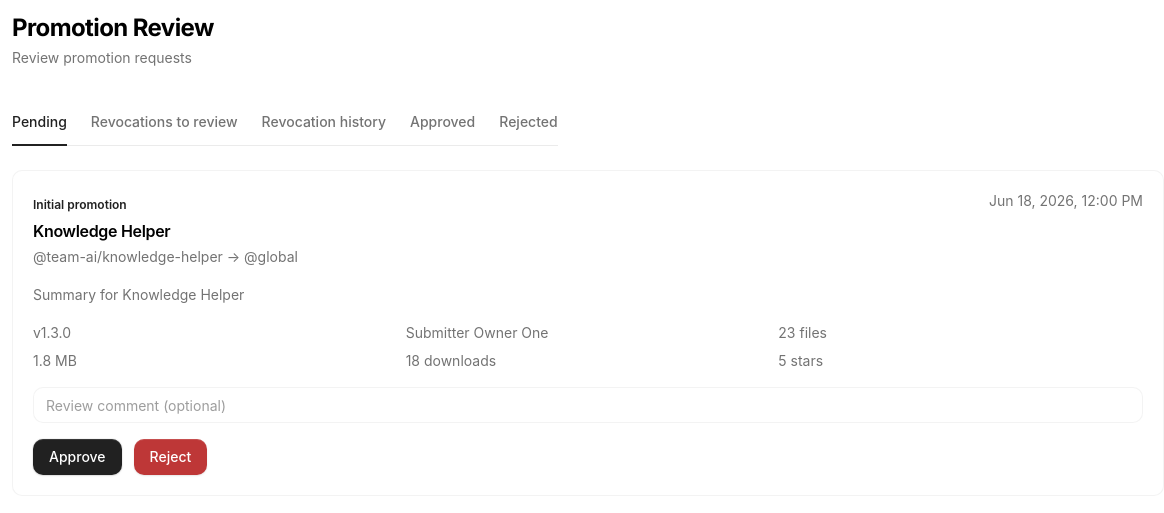
Test case: PromotionsPage › shows reviewed revocations in the admin history tab
Click the tab "Revocation history": (324, 123) top-left (262, 100), bottom-right (386, 146)
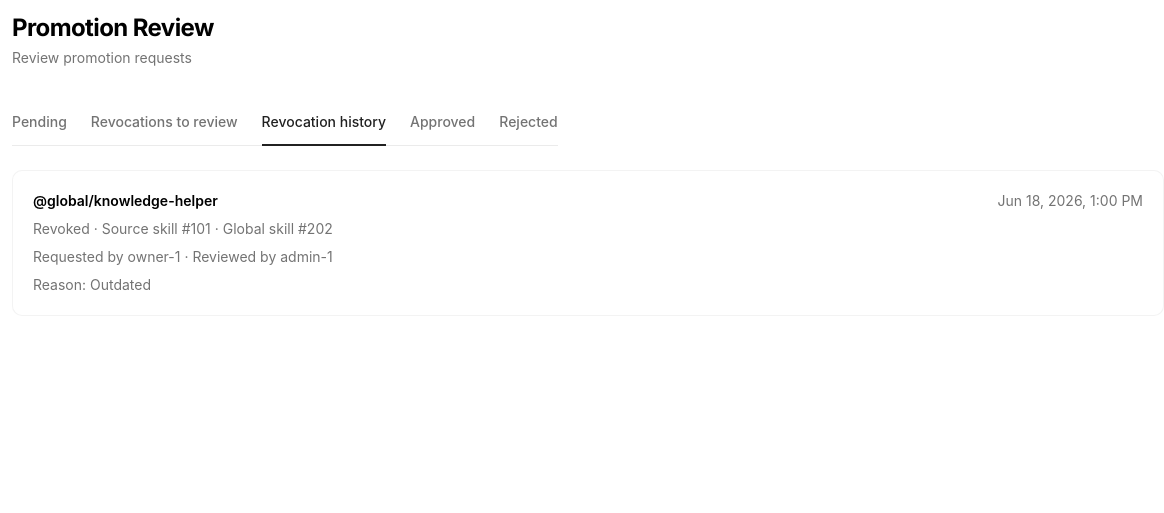
Now the text "@global/knowledge-helper" is shown, box top-left (33, 191), bottom-right (218, 211)
Now the text "Revoked · Source skill #101 · Global skill #202" is shown, box top-left (33, 220), bottom-right (333, 237)
